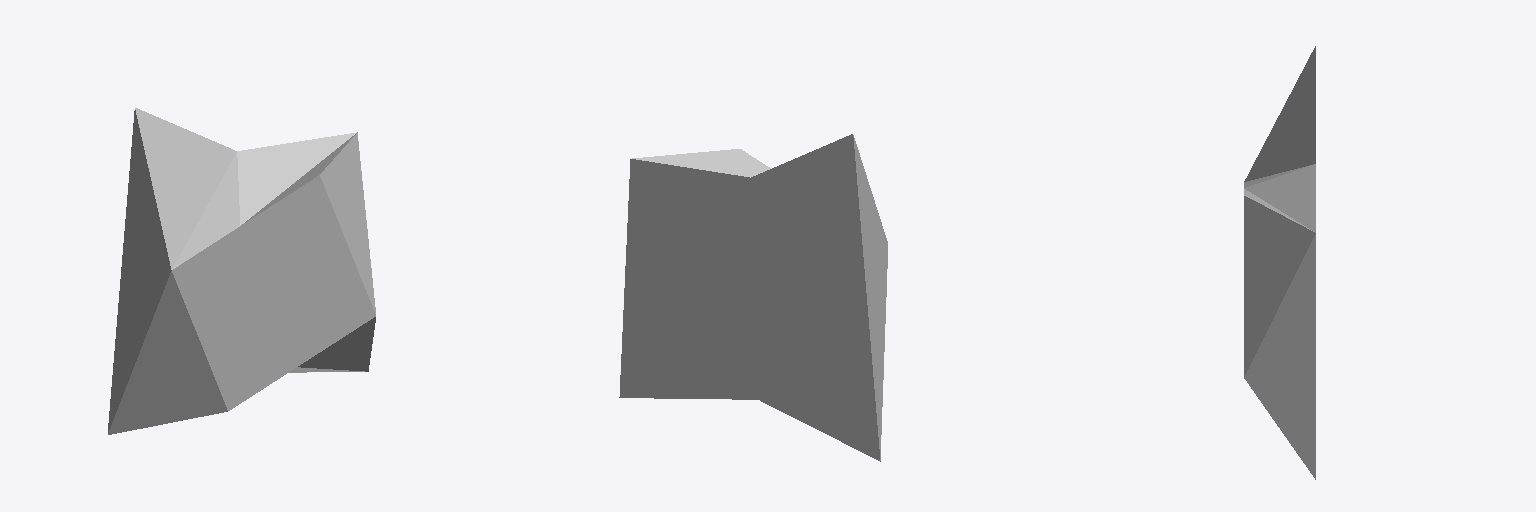
The model's file is floorScrap5.obj.
3 renders of one model, left to right at view 1: azimuth 30°, elevation 25°; view 2: azimuth 150°, elevation 25°; view 3: azimuth 270°, elevation 25°, orthographic.
Visible parts, largest first — view 1: Object.1; view 2: Object.1; view 3: Object.1.
Boxes of the visible parts, <box> form: Object.1: <box>108,108,375,434</box>; Object.1: <box>619,134,887,461</box>; Object.1: <box>1244,46,1315,479</box>.
Bounding box in the file's own units: 50.8 × 59.77 × 12.13.